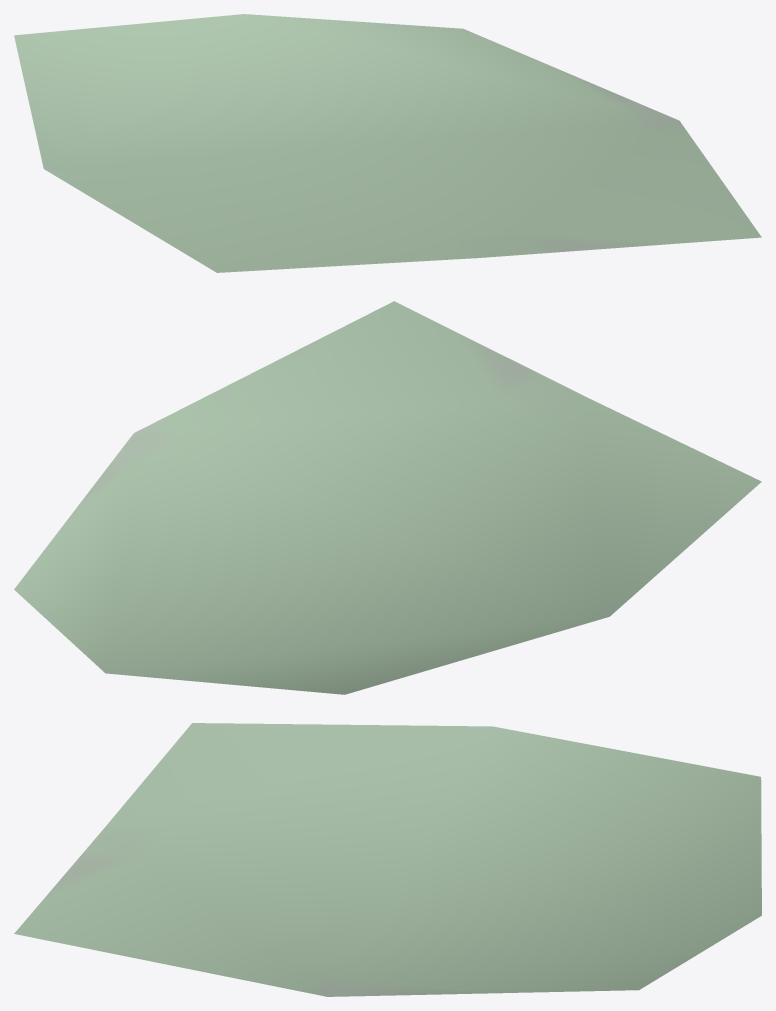
File: TROLLHOLE02_HOLECAP46.fbx
The picture shows the model from 3 angles, top to bottom: view 1: azimuth 30°, elevation 25°; view 2: azimuth 150°, elevation 25°; view 3: azimuth 270°, elevation 25°; orthographic projection. The views are drawn at different scales.
Parts seen in each view (by area): view 1: TROLLHOLE02_HOLECAP46; view 2: TROLLHOLE02_HOLECAP46; view 3: TROLLHOLE02_HOLECAP46.
Part boxes in pixels (x1=…): TROLLHOLE02_HOLECAP46: x1=14, y1=14, x2=761, y2=272; TROLLHOLE02_HOLECAP46: x1=14, y1=301, x2=761, y2=694; TROLLHOLE02_HOLECAP46: x1=14, y1=723, x2=761, y2=996.
Bounding box in the file's own units: 22911 × 1925 × 28855.
Materials: 1 (1 with a texture image).
